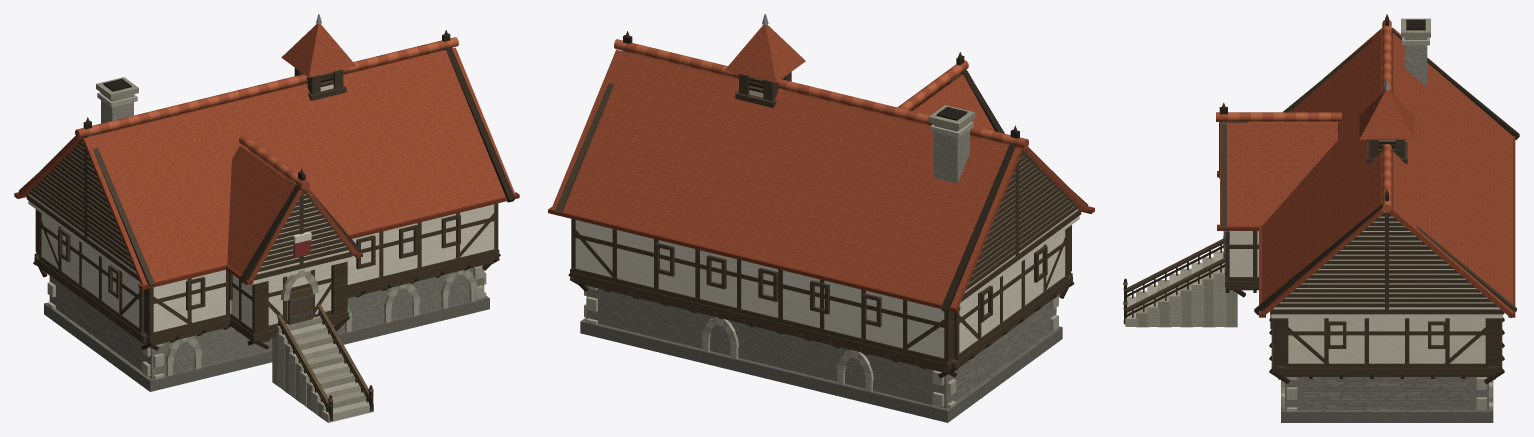
The model's file is townhall-medieval-built.glb.
The picture shows the model from 3 angles, left to right: view 1: azimuth 30°, elevation 25°; view 2: azimuth 150°, elevation 25°; view 3: azimuth 270°, elevation 25°; orthographic projection. The views are drawn at different scales.
Size of the model in its own units: 36.5 by 26.2 by 33.02.
Materials: 49 (42 with a texture image).
